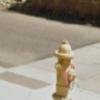a fire hydrant: (50, 39, 78, 100)
